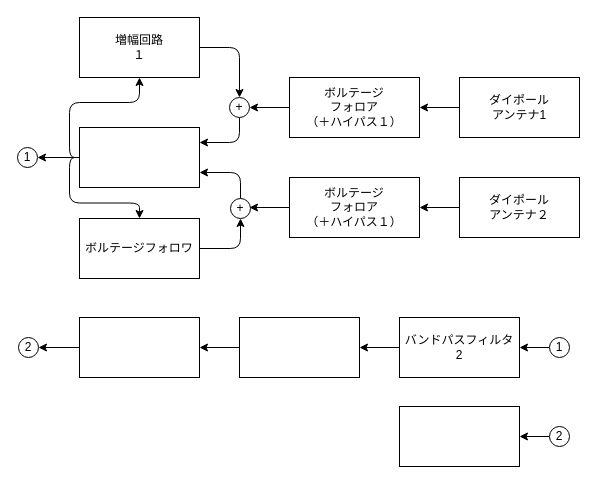
Some shapes in this 597 by 484 pixel diagram are drawn without their labels. Each missing label, with the centre of its shape:
"デジタルsw １" goes at pixel 139 347.
"バンドパスフィルタ 3" goes at pixel 299 347.
"ボルテージフォロア" goes at pixel 459 436.
"差動増幅 ２重帰還 バンドパスフィルタ １" goes at pixel 139 157.
